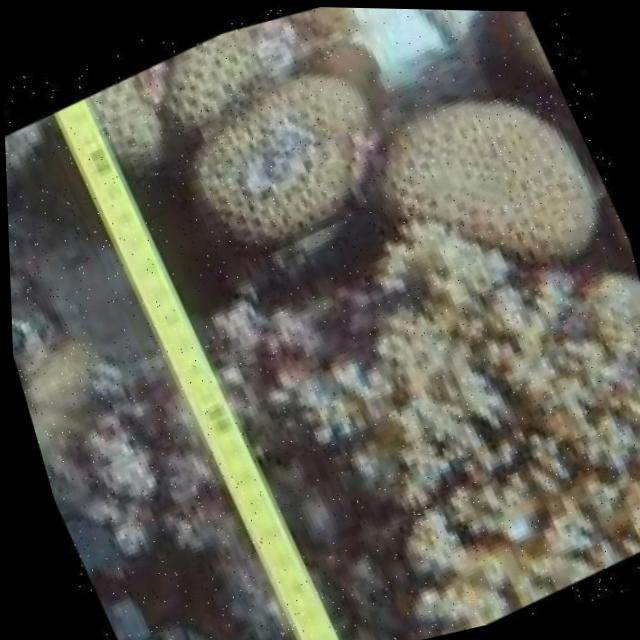Bleached Coral: (145, 112, 640, 640)
